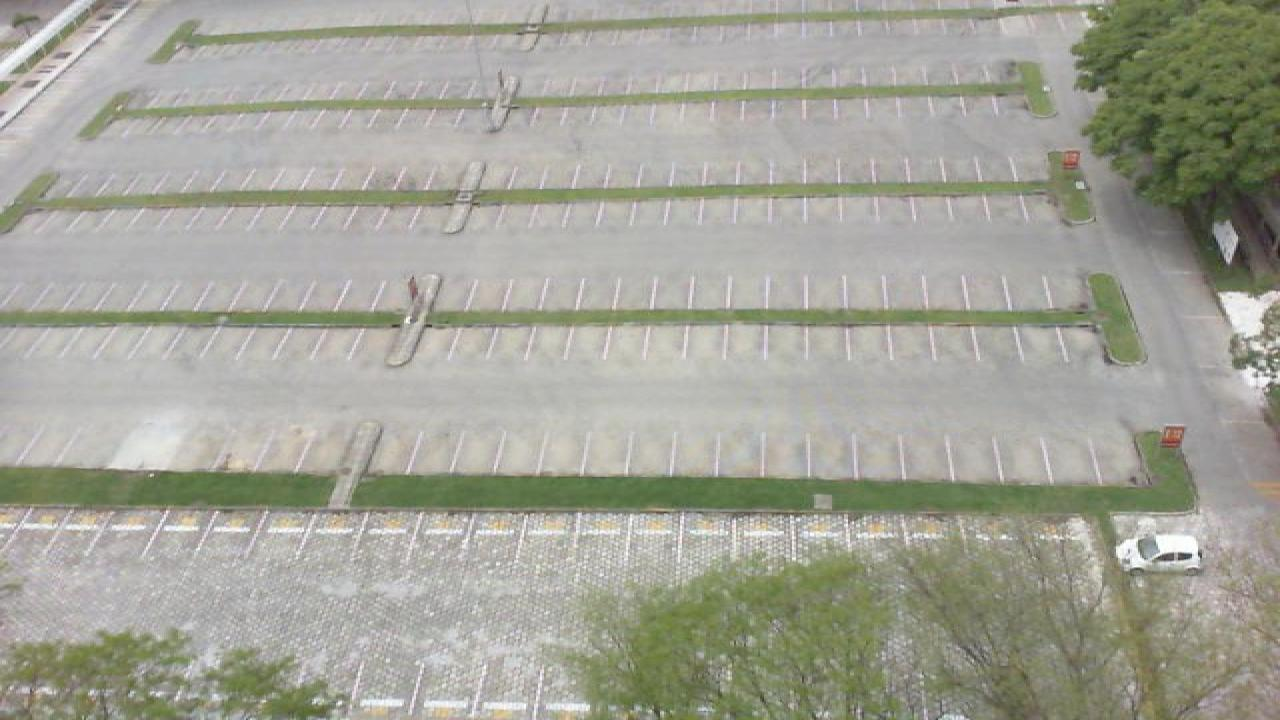Car: (1116, 533, 1202, 573)
